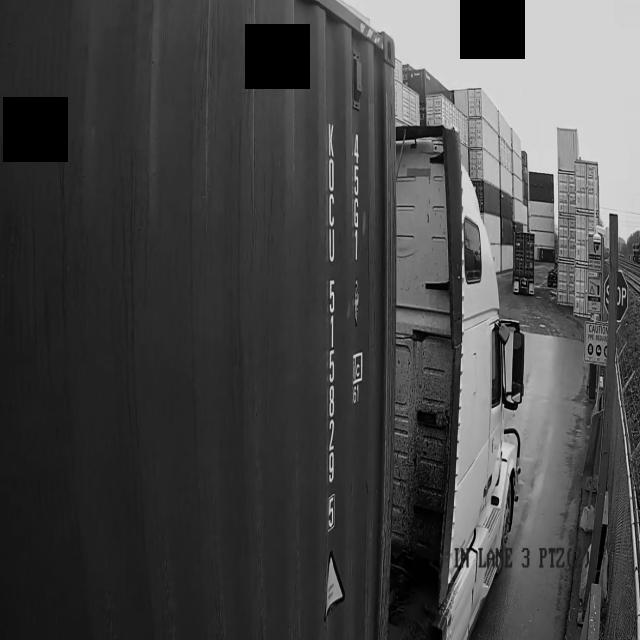container_side_no: (321, 111, 345, 548)
truck_with_container: (0, 0, 523, 640)
